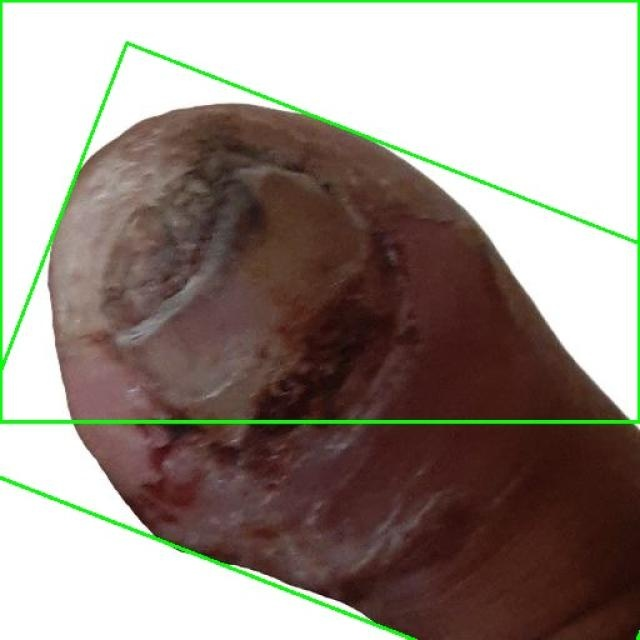Contact Dermatitis: (0, 44, 640, 640), (0, 0, 639, 421)
